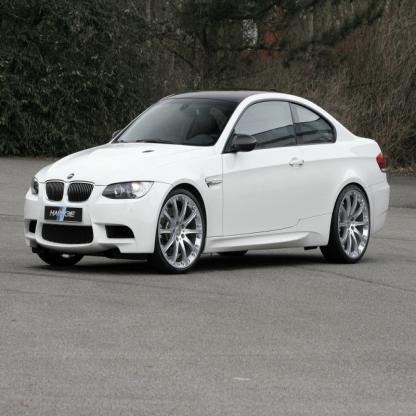Vehicle: (23, 92, 390, 278)
